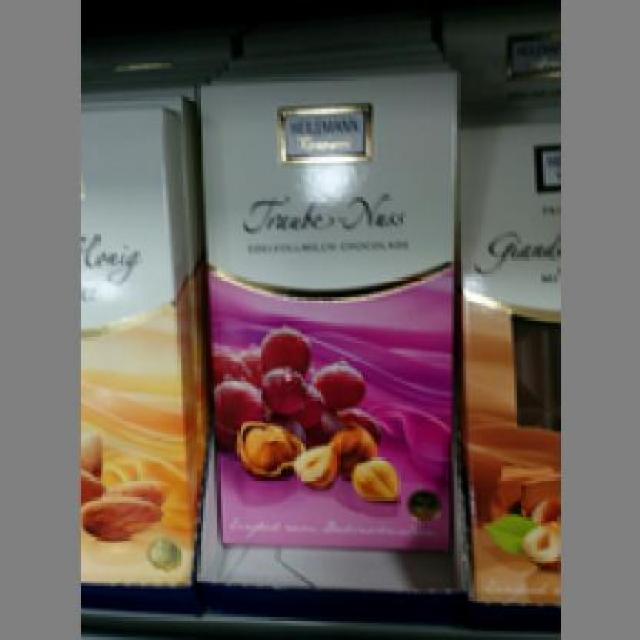Chocolate: (194, 68, 460, 546), (76, 90, 192, 586), (454, 123, 554, 600)
